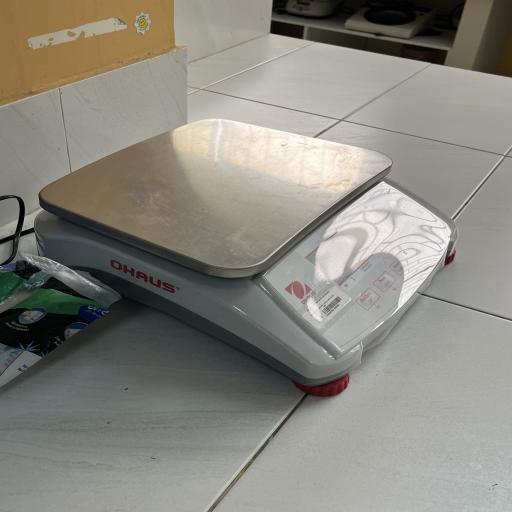Balanza_Granataria_Ohaus: (23, 120, 506, 410)
